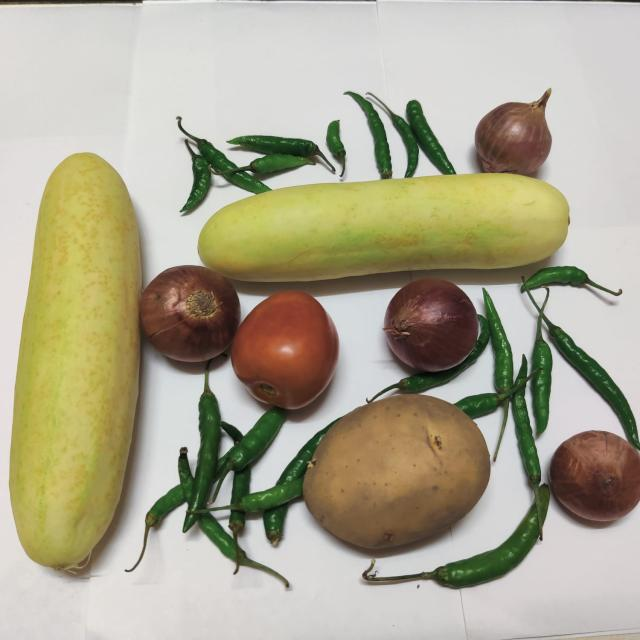Organik: (0, 148, 144, 586), (189, 171, 581, 286), (146, 397, 318, 586), (307, 392, 477, 558), (488, 288, 640, 434), (151, 111, 345, 205), (231, 287, 336, 418), (344, 70, 466, 182), (470, 68, 570, 182), (380, 273, 480, 377), (133, 268, 240, 358), (551, 427, 640, 529)
